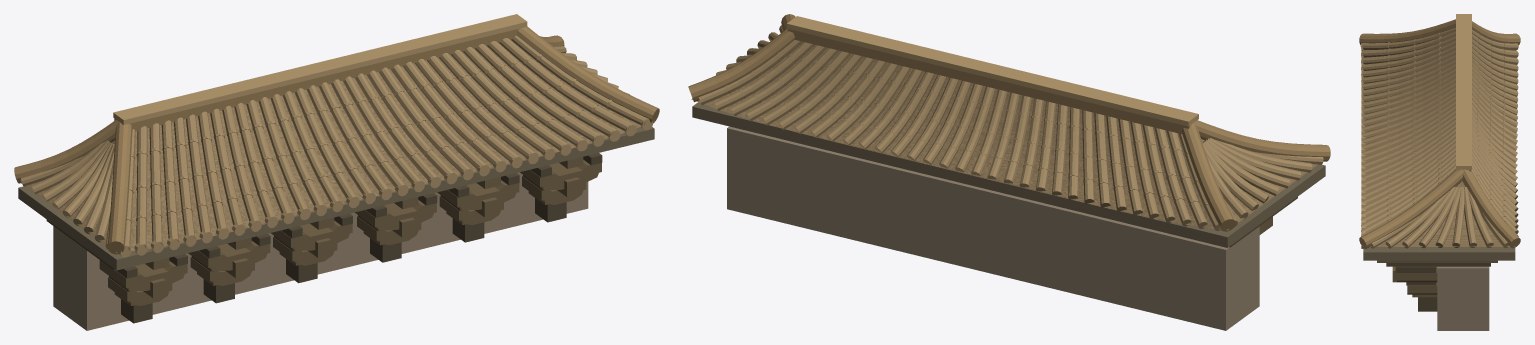
The model's file is huangpu-juxingcheng-bank-tiled-door-canopy-web.glb.
The picture shows the model from 3 angles, left to right: view 1: azimuth 30°, elevation 25°; view 2: azimuth 150°, elevation 25°; view 3: azimuth 270°, elevation 25°; orthographic projection. The views are drawn at different scales.
Parts seen in each view (by area): view 1: 聚兴诚银行大楼入口瓦门罩与檐下斗栱; view 2: 聚兴诚银行大楼入口瓦门罩与檐下斗栱; view 3: 聚兴诚银行大楼入口瓦门罩与檐下斗栱.
Part boxes in pixels (x1=…): 聚兴诚银行大楼入口瓦门罩与檐下斗栱: x1=14, y1=14, x2=659, y2=330; 聚兴诚银行大楼入口瓦门罩与檐下斗栱: x1=688, y1=14, x2=1330, y2=330; 聚兴诚银行大楼入口瓦门罩与檐下斗栱: x1=1359, y1=14, x2=1520, y2=330.
Bounding box in the file's own units: 6.96 × 2.29 × 2.29.
Materials: 9 (1 with a texture image).
